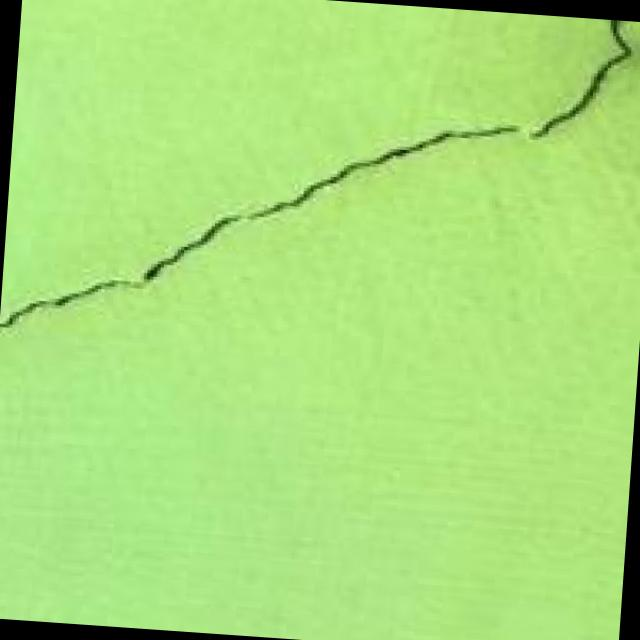crack: (2, 0, 640, 379)
